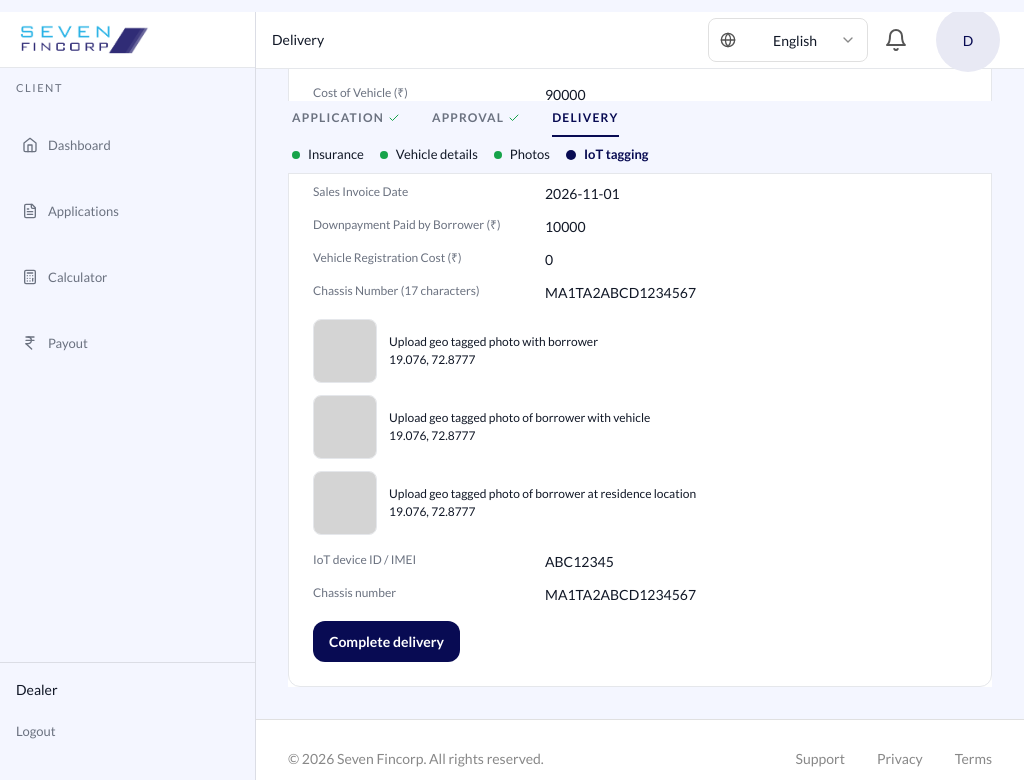
Test: DealerDeliveryPage › submits once from Complete delivery and writes the completion keys
(page scrolled)
What coordinates should you click on to do the following:
click the button with test id "delivery-submit-button"
I would click on:
 (386, 642)
Its box is [313,621,460,662].
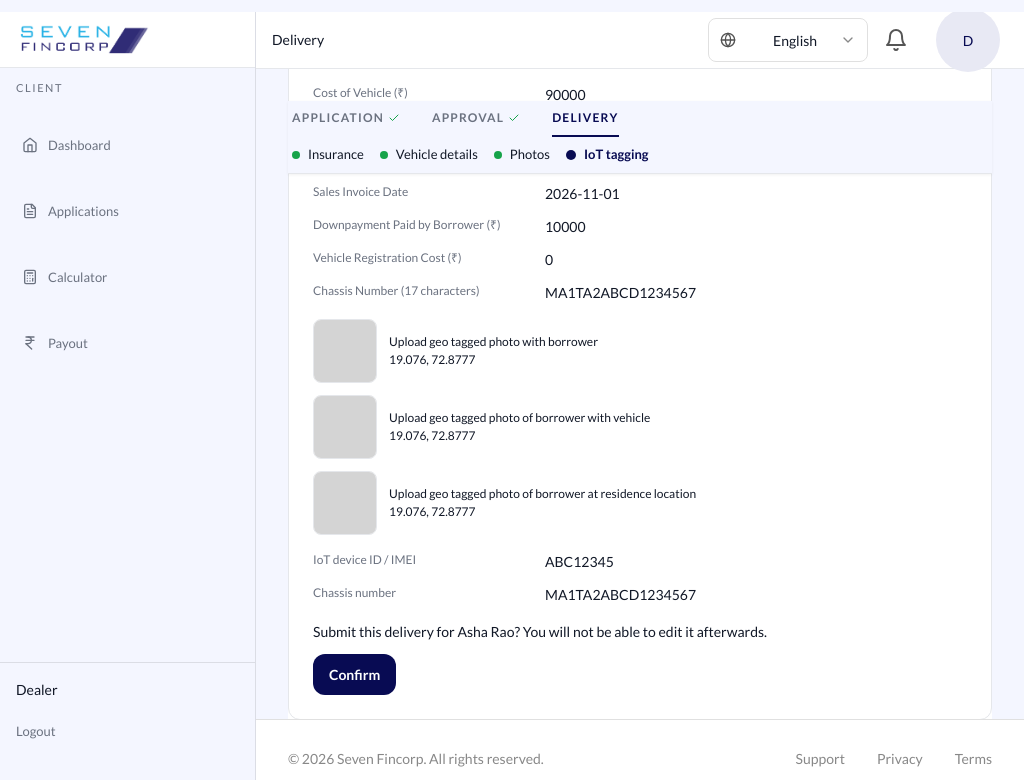
Check: the text with test id "delivery-submit-confirm" reads "Submit this delivery for Asha Rao? You will not be able to edit it afterwards.", box [313,623,767,640]
What coordinates should you click on to do the following:
click the button with test id "delivery-submit-confirm-button"
I would click on:
 (355, 674)
Its box is [313,654,396,695].
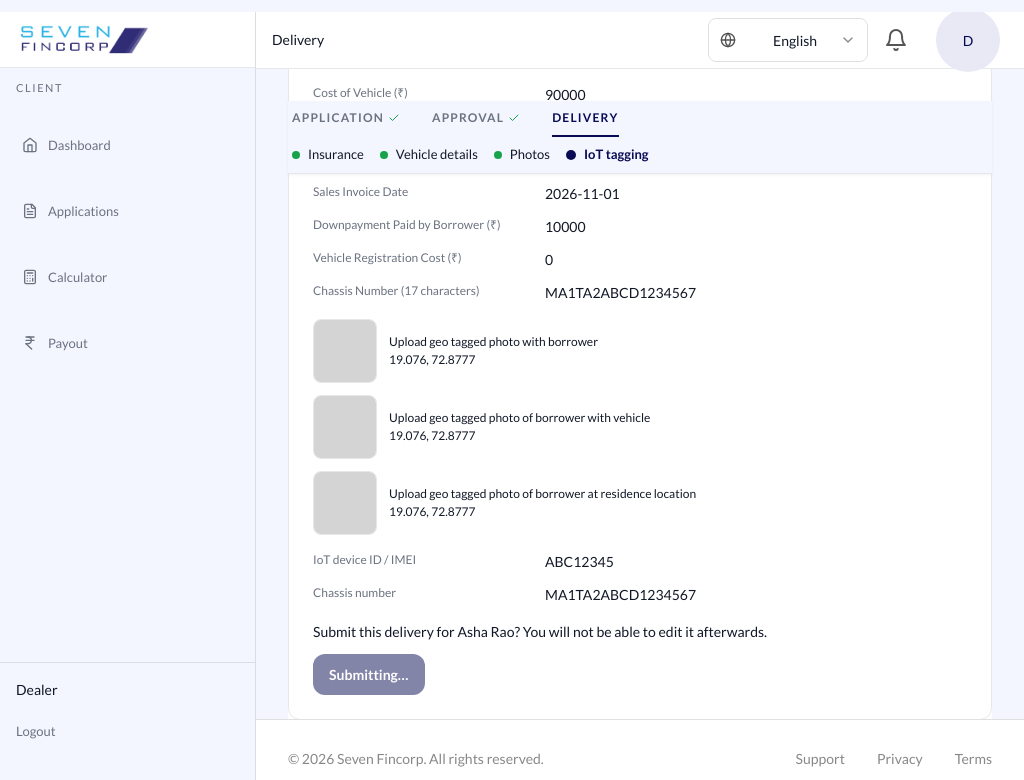
What coordinates should you click on to do the following:
click the button with test id "delivery-submit-confirm-button"
I would click on:
 (369, 674)
Its box is [313,654,424,695].
(page scrolled)
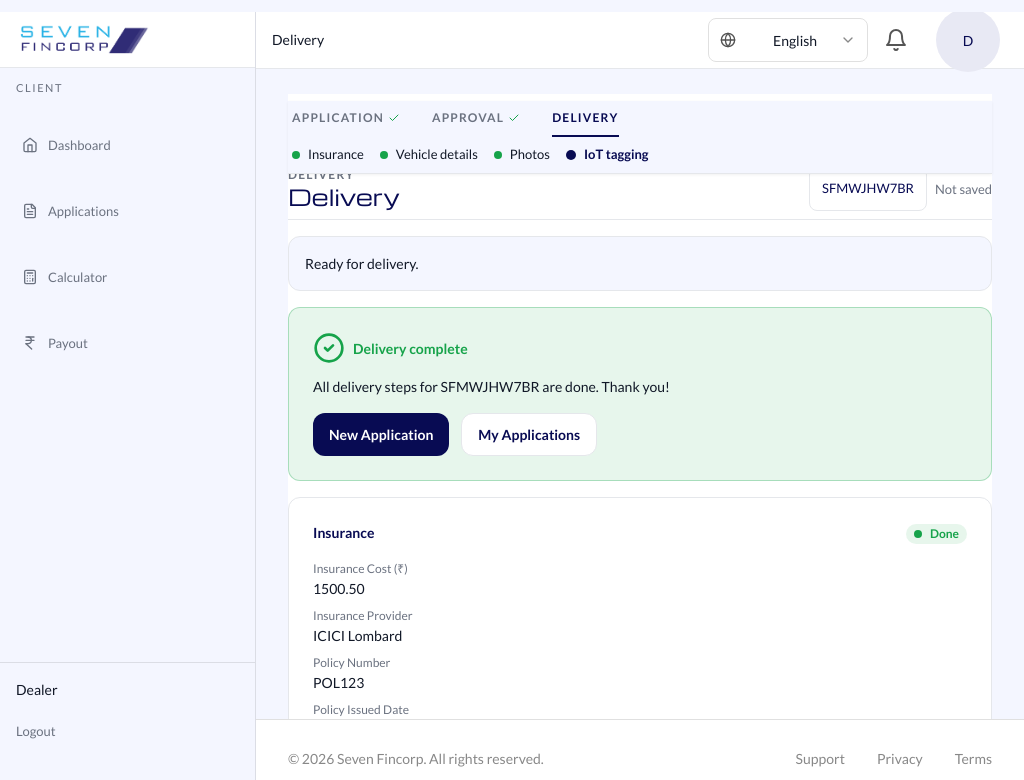
Check: the element with test id "delivery-success" is shown, box [288,307,992,481]
